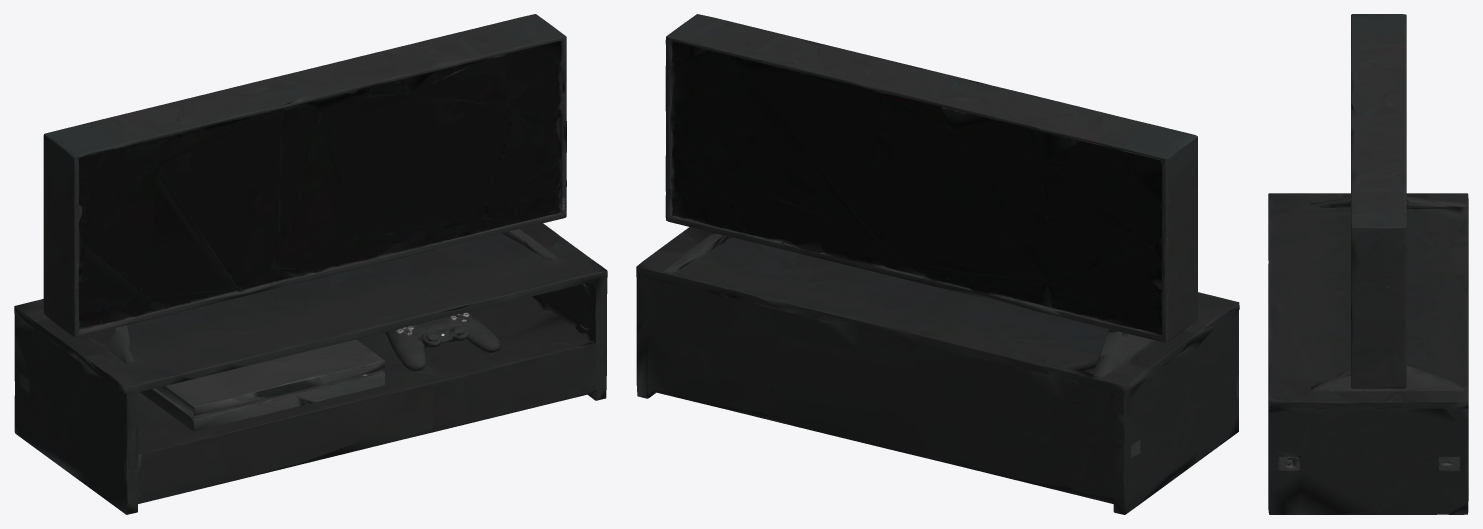
Rendered from mobile.glb.
3 views of the same model, side by side, from view 1: azimuth 30°, elevation 25°; view 2: azimuth 150°, elevation 25°; view 3: azimuth 270°, elevation 25° (orthographic). The views are drawn at different scales.
Parts seen in each view (by area): view 1: d-tvunit; view 2: d-tvunit; view 3: d-tvunit.
Part boxes in pixels (x1,y1,x2,y2): d-tvunit: (14,14,607,514); d-tvunit: (636,14,1239,514); d-tvunit: (1268,14,1468,514).
Size of the model in its own units: 1.2 by 0.7612 by 0.4751.
1 material, 1 textured.
